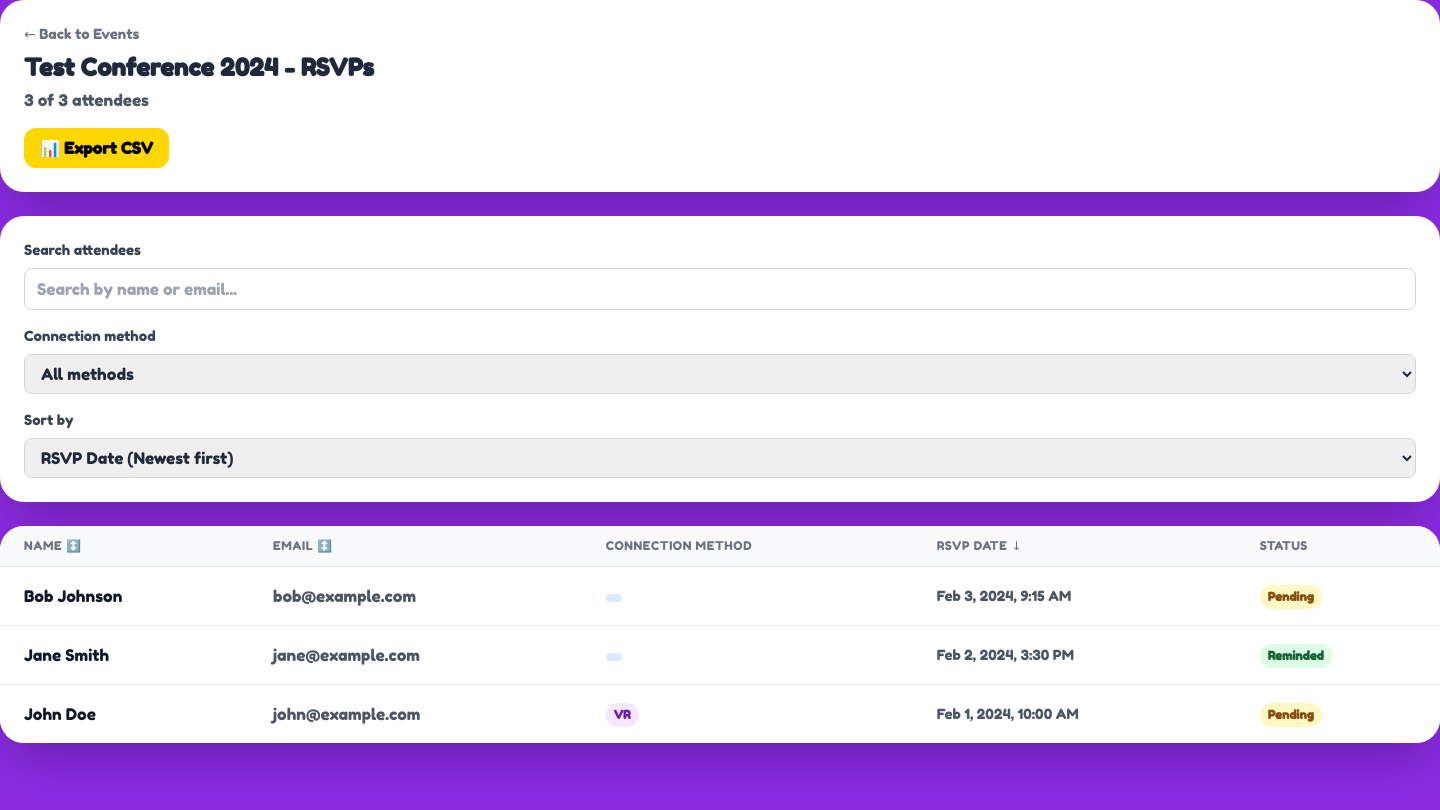
RsvpList Component › Search and Filter Functionality › should filter RSVPs by email search
Expected: the text "jane@example.com" is shown, left=273, top=645, right=420, bottom=665
Type "jane@" into the field with placeholder "Search by name or email...".
click(720, 289); type("jane@")  # box left=24, top=268, right=1416, bottom=310
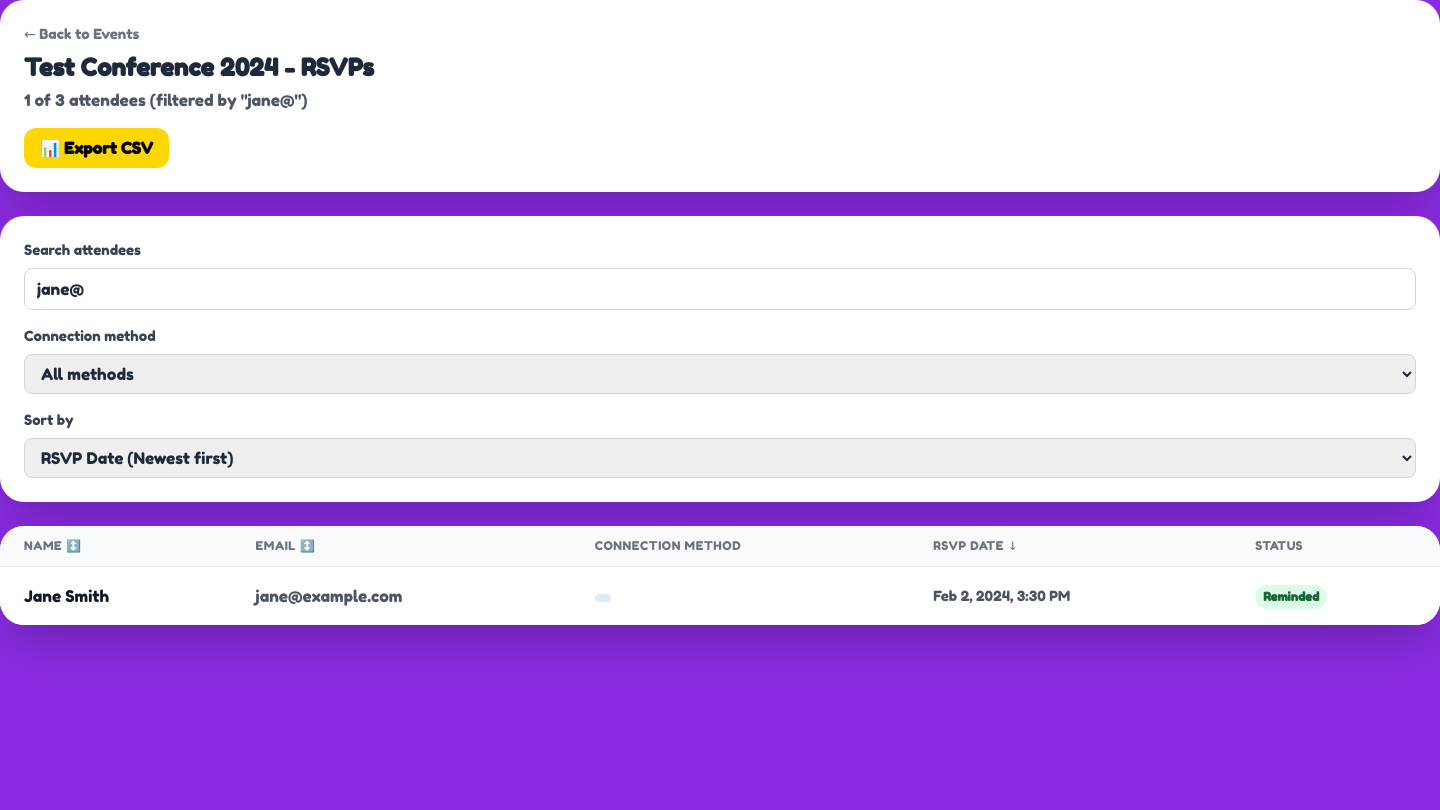
Expected: the text "Jane Smith" is shown, left=24, top=586, right=109, bottom=606
Expected: the text "John Doe" is gone
Expected: the text "Bob Johnson" is gone
